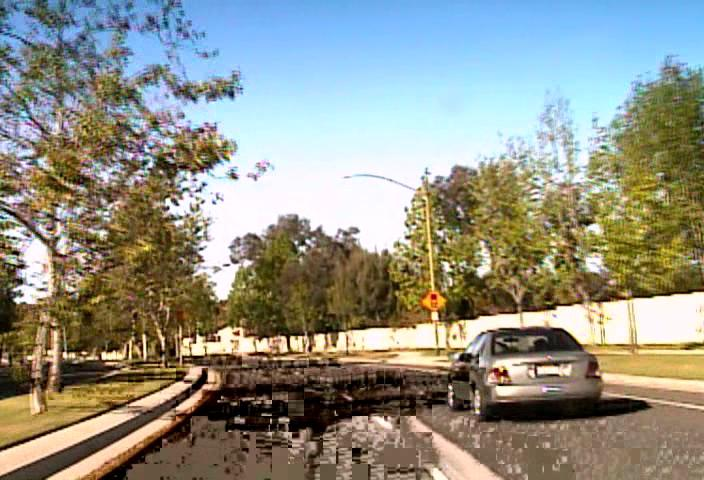signalAhead: (420, 288, 446, 312)
